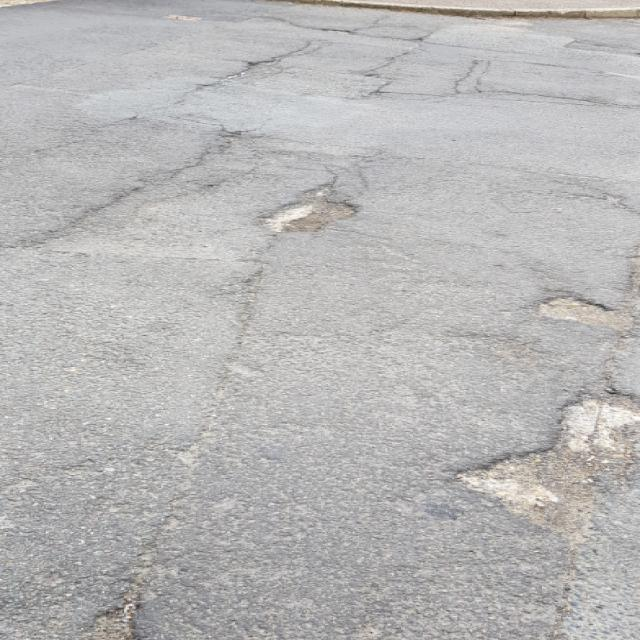pothole: (439, 380, 637, 534), (251, 181, 361, 241), (530, 286, 620, 324)
